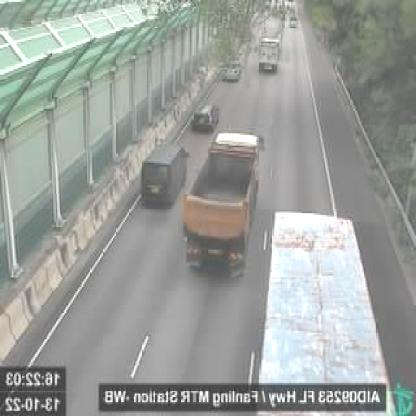Car: (141, 141, 187, 206), (191, 102, 217, 132), (224, 63, 241, 81)
Truck: (183, 129, 260, 280), (258, 36, 282, 74)
